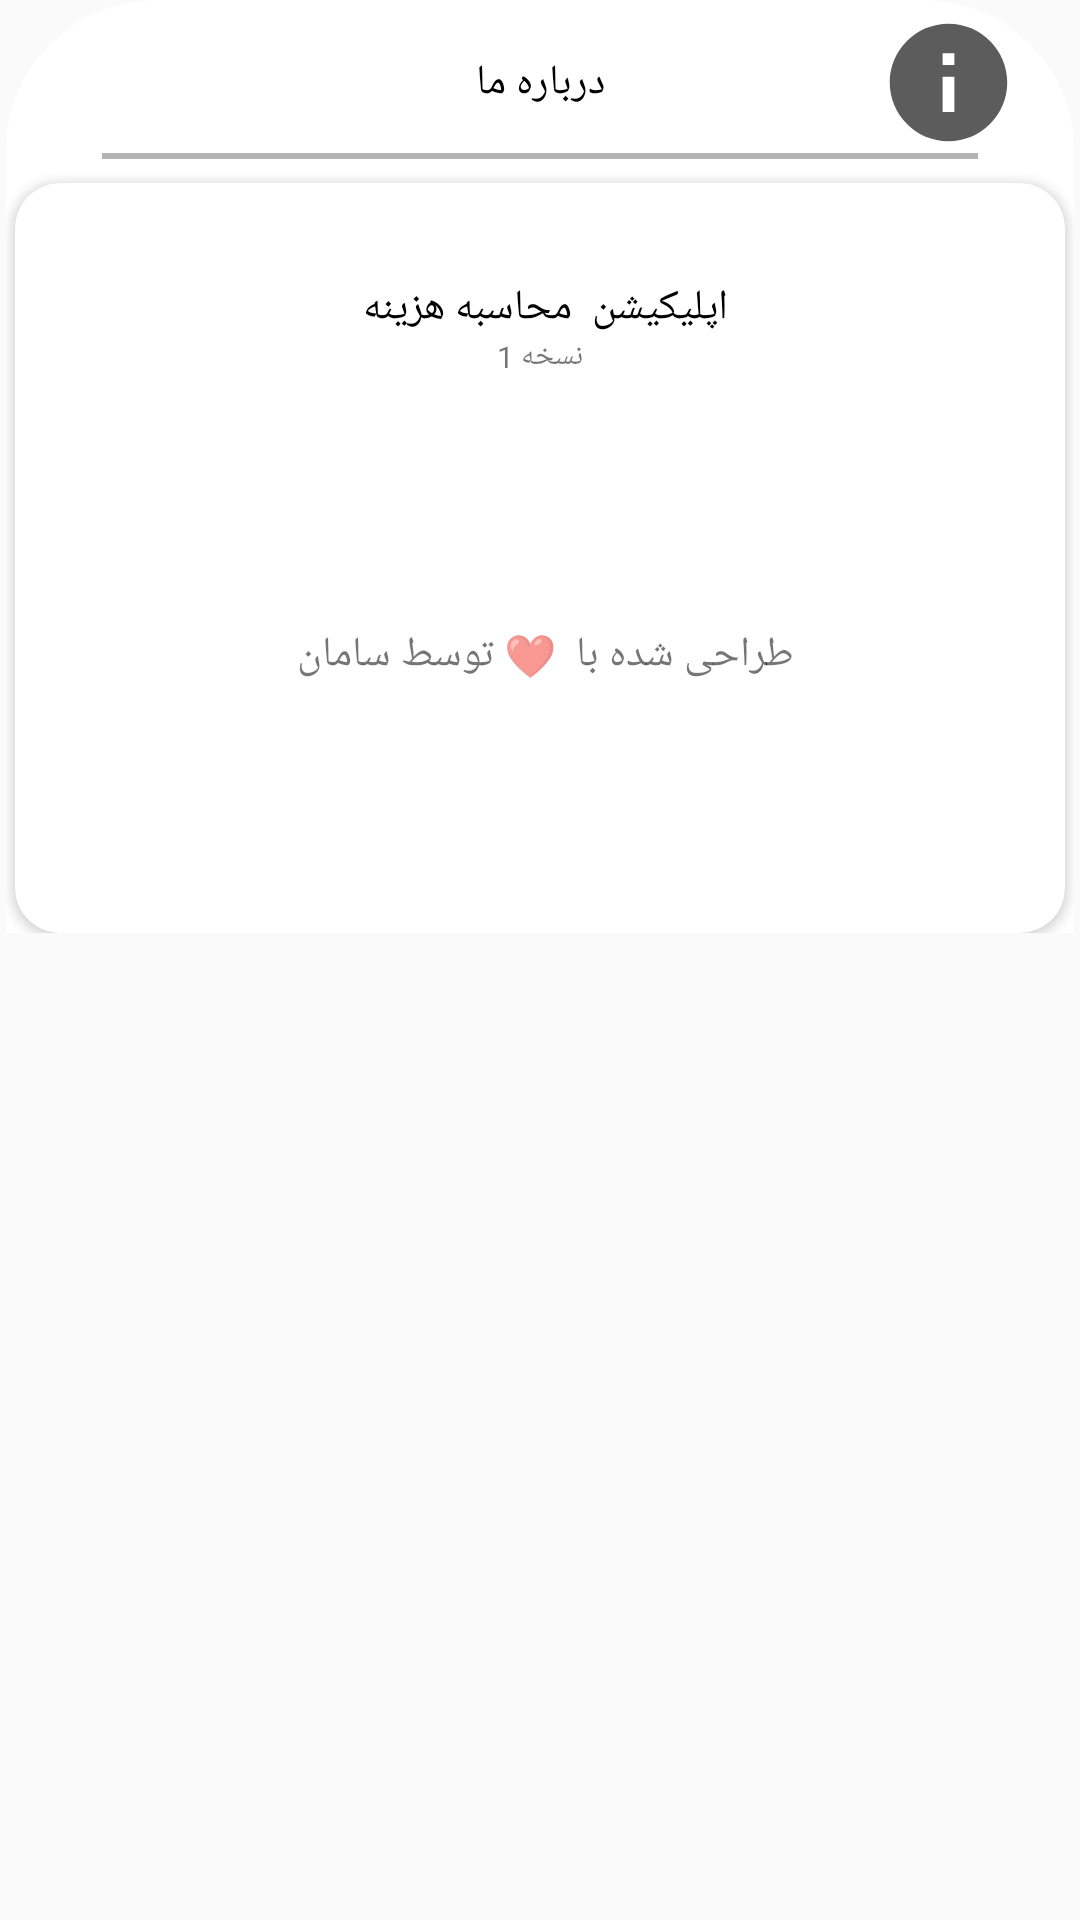

Screen size 1080w x 1920h. Icon name, then its center in pixels as (x=x, y=y):
info: (x=948, y=82)
